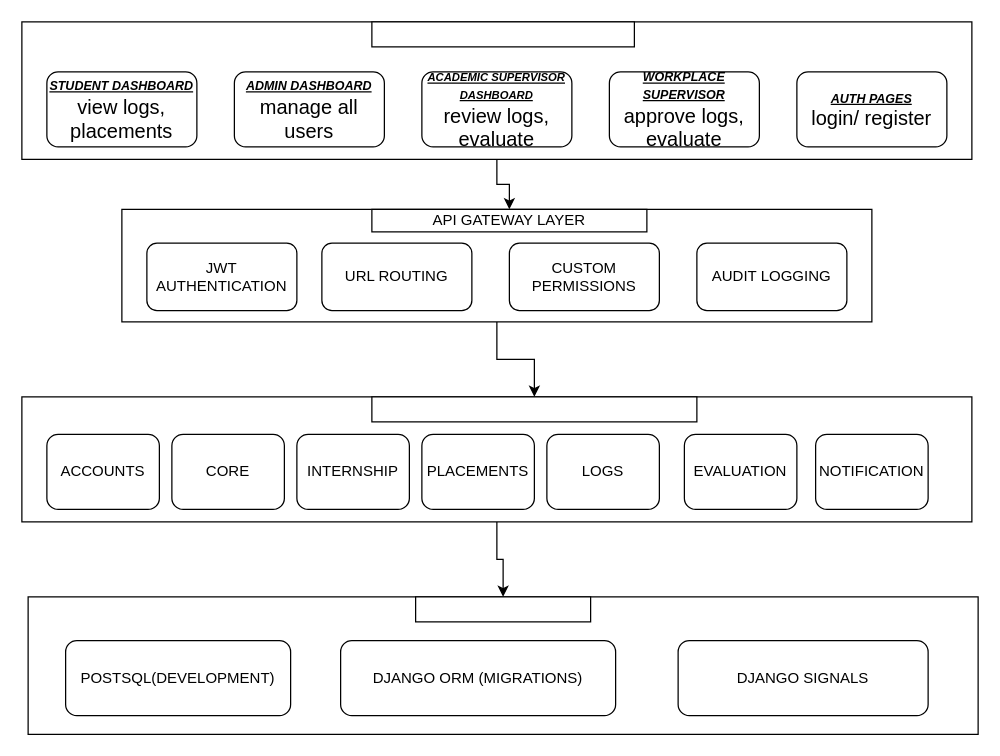
This 1000x756 diagram has some shape labels left out. The shapes that lost their labels are listed below. From the top down, each one's centre as x and y in pixels, then its label:
At pixel 502 34: "CLIENT LAYER".
At pixel 534 409: "DJANGO BACKEND APPLICATIONS".
At pixel 502 609: "DATA LAYER".
